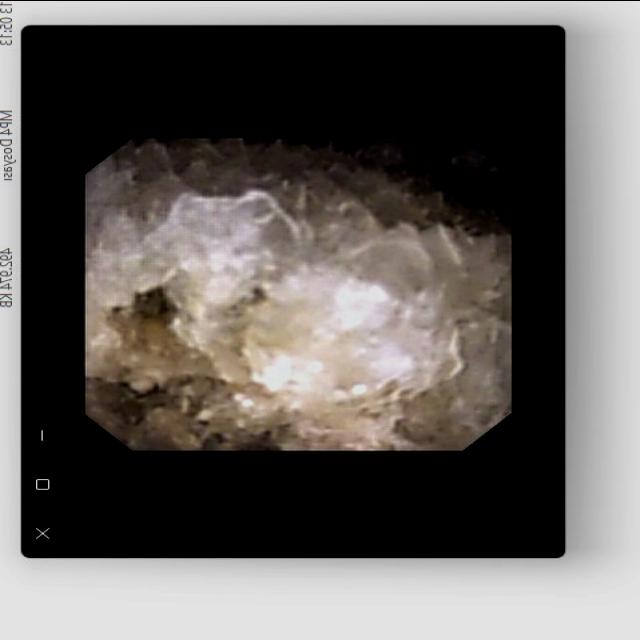stone: (94, 141, 502, 444)
